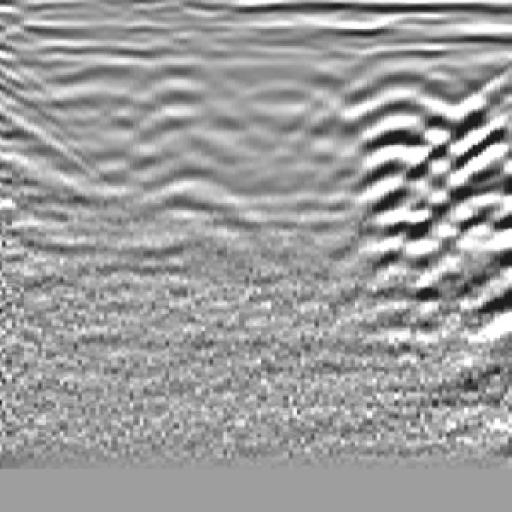metalic: (95, 35, 268, 265)
nonmetalic: (346, 31, 512, 277)
